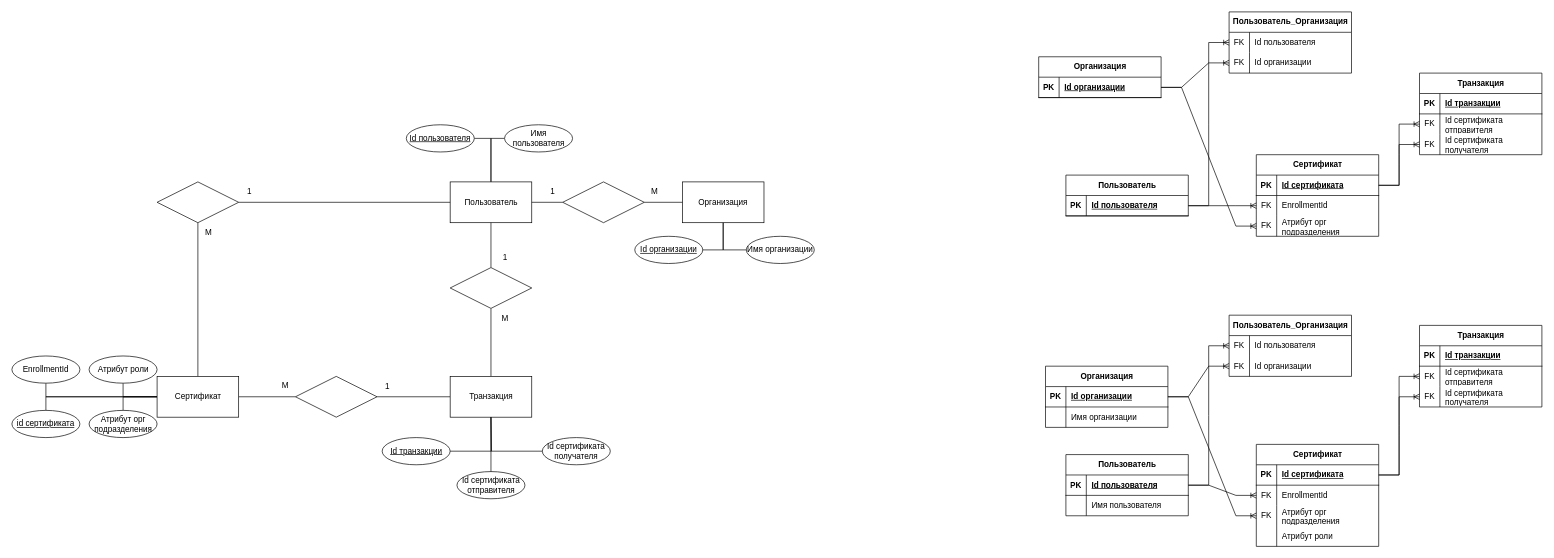
The diagram is 1554 pixels wide and 558 high, and some of its shapes have lost their labels. Each missing label, with the box of its shape:
Имеет: (156, 181, 239, 223)
Принадлежит: (562, 181, 644, 223)
Проверяется: (295, 376, 377, 417)
Проводит: (449, 267, 532, 308)
